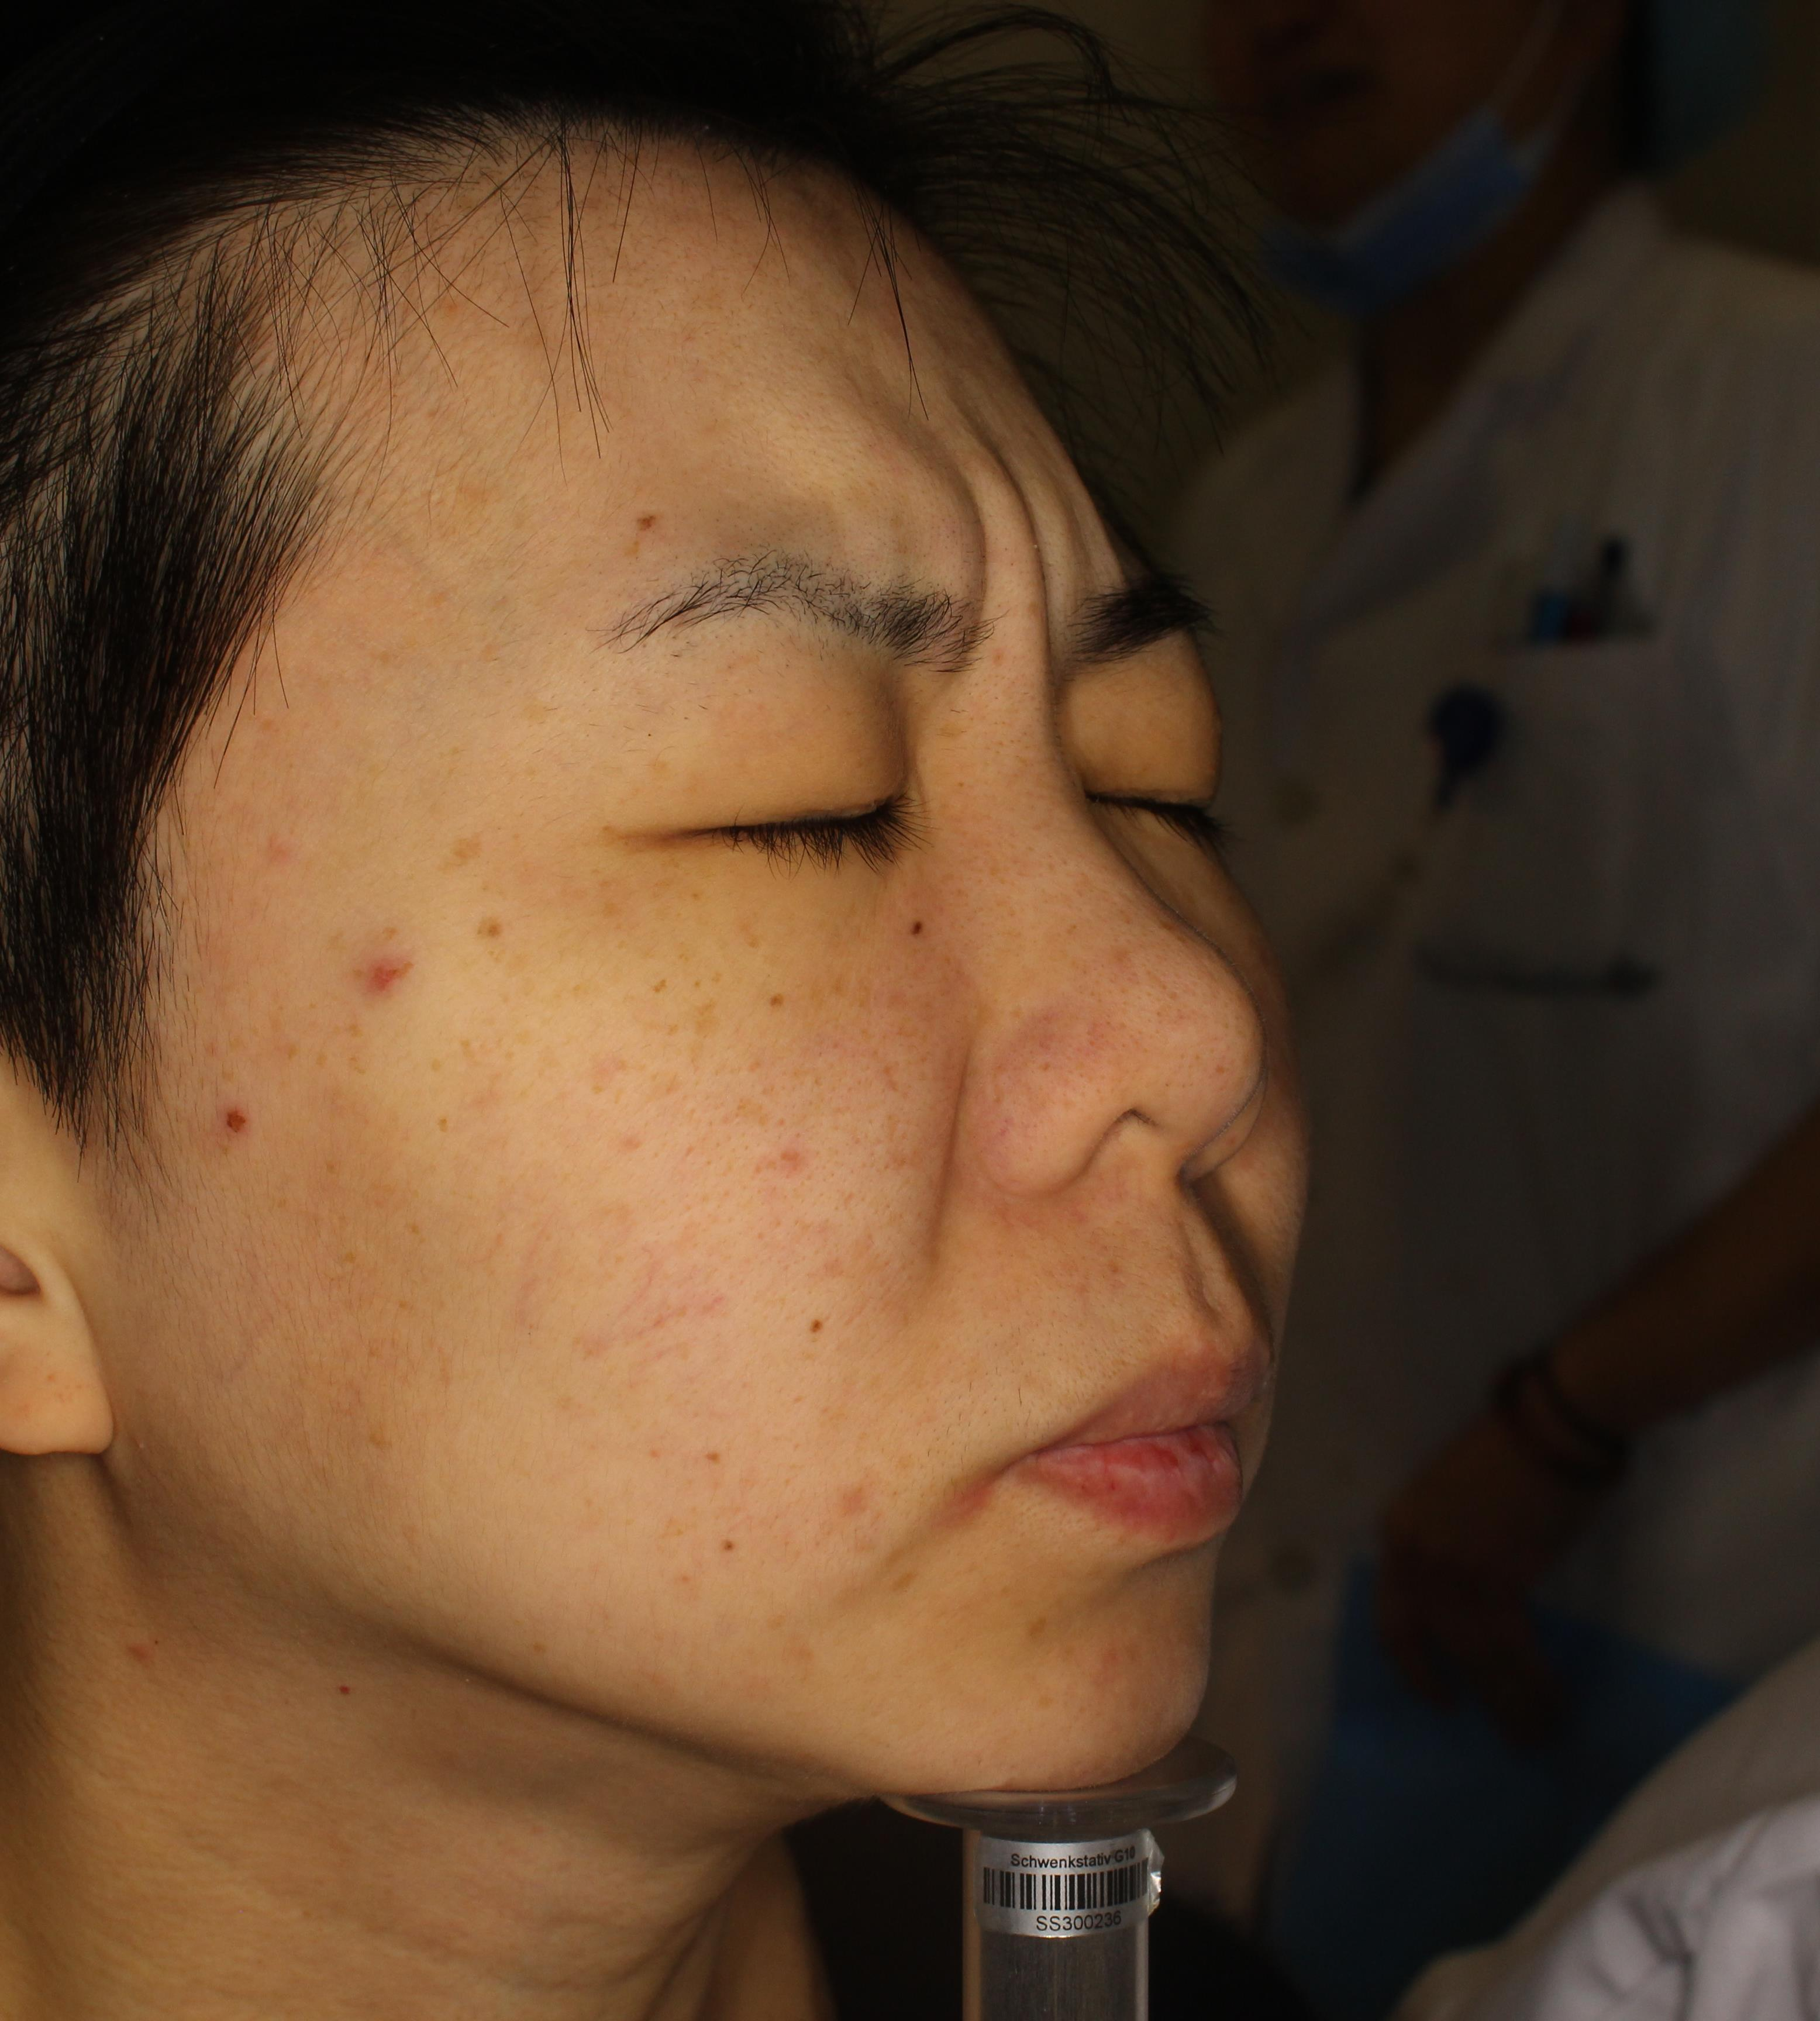fore: (351, 939, 409, 1020)
